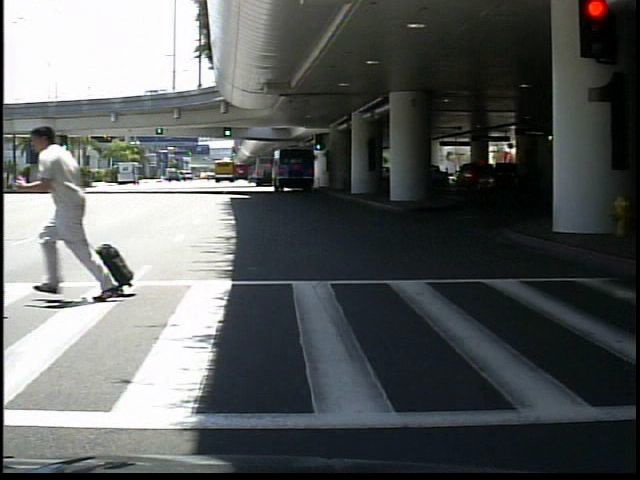person: (38, 123, 123, 302)
